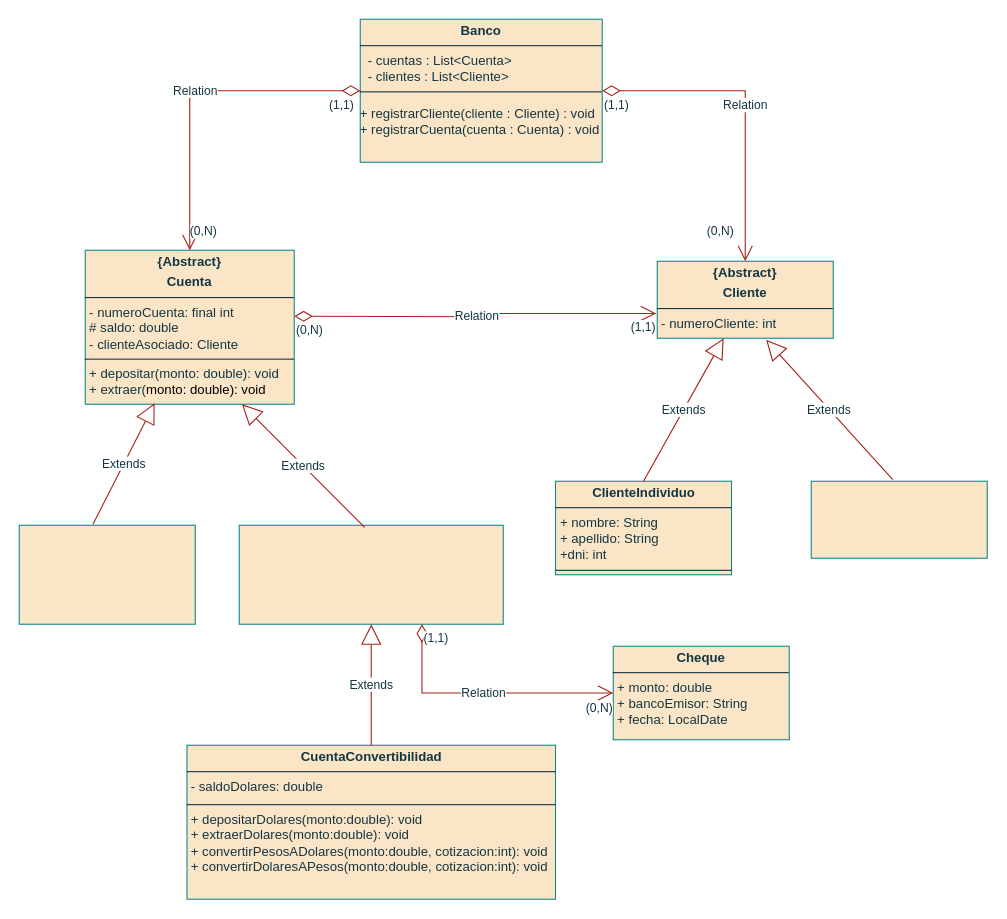
This 1007x919 diagram has some shape labels left out. The shapes that lost their labels are listed below. From the top down, each one's centre as x and y in pixels, then its label:
At point 898,519: "ClienteEmpresa - nombreFantasia: String - cuit : String".
At point 106,574: "CajaDeAhorro - tasaDeInteres: double + cobrarInteres(): void".
At point 370,574: "CuentaCorriente - descubierto: int + depositarCheque(cheque: Cheque): void".
